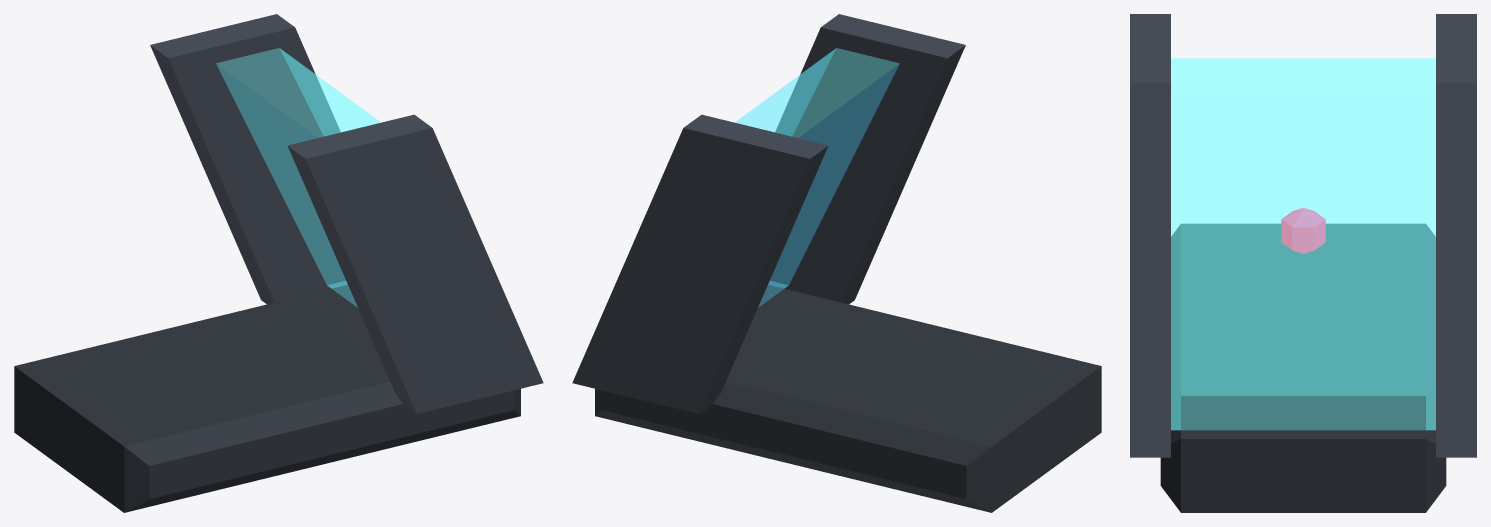
Rendered from sight_reflex.glb.
3 views of the same model, side by side, from view 1: azimuth 30°, elevation 25°; view 2: azimuth 150°, elevation 25°; view 3: azimuth 270°, elevation 25° (orthographic). The views are drawn at different scales.
Visible parts, largest first — view 1: sight_reflex; view 2: sight_reflex; view 3: sight_reflex.
Boxes of the visible parts, x1=… form: sight_reflex: x1=14, y1=14, x2=543, y2=512; sight_reflex: x1=572, y1=14, x2=1101, y2=512; sight_reflex: x1=1130, y1=14, x2=1476, y2=512.
Size of the model in its own units: 0.05 by 0.04 by 0.034.
